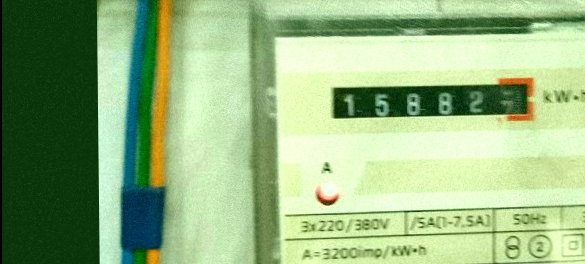1: (343, 92, 357, 117)
2: (469, 87, 485, 114)
5: (374, 91, 390, 117)
7: (500, 97, 514, 113)
8: (405, 91, 422, 115), (437, 89, 453, 114)
screen: (319, 70, 545, 132)
